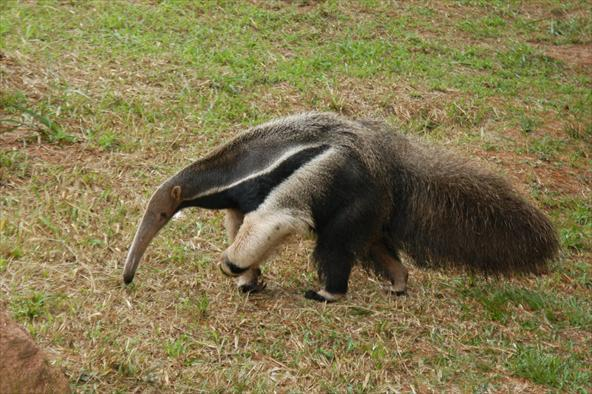TamanduaBandeira: (119, 110, 565, 307)
